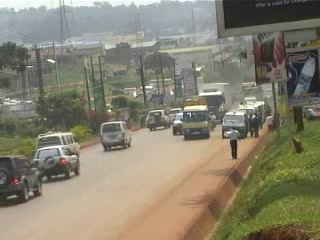Car: (0, 152, 44, 203), (32, 147, 84, 182), (144, 107, 171, 131), (167, 104, 184, 123)
Motorcycle: (210, 111, 216, 134)
